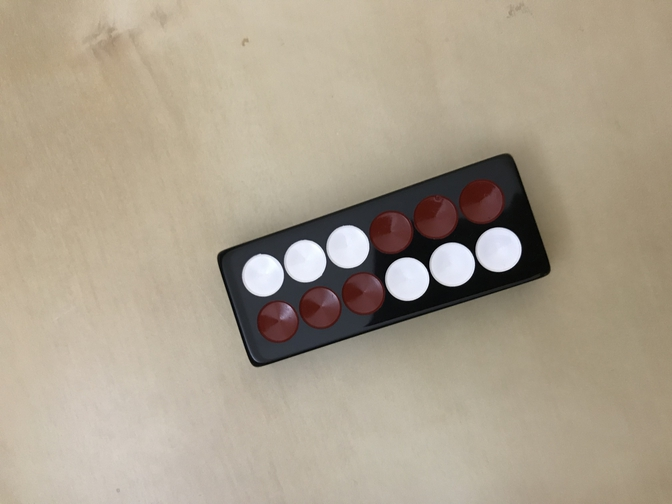heaven: (217, 153, 551, 368)
